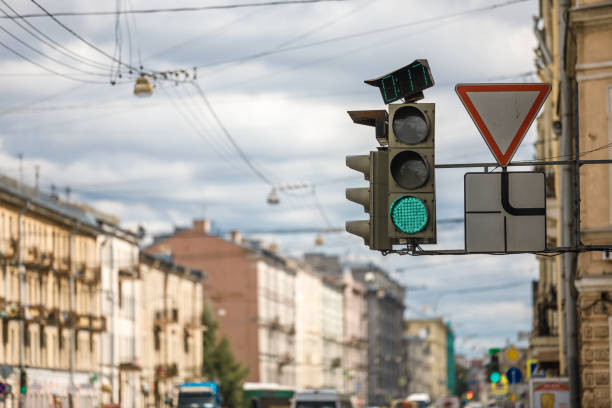trafficlight: (386, 102, 437, 246)
